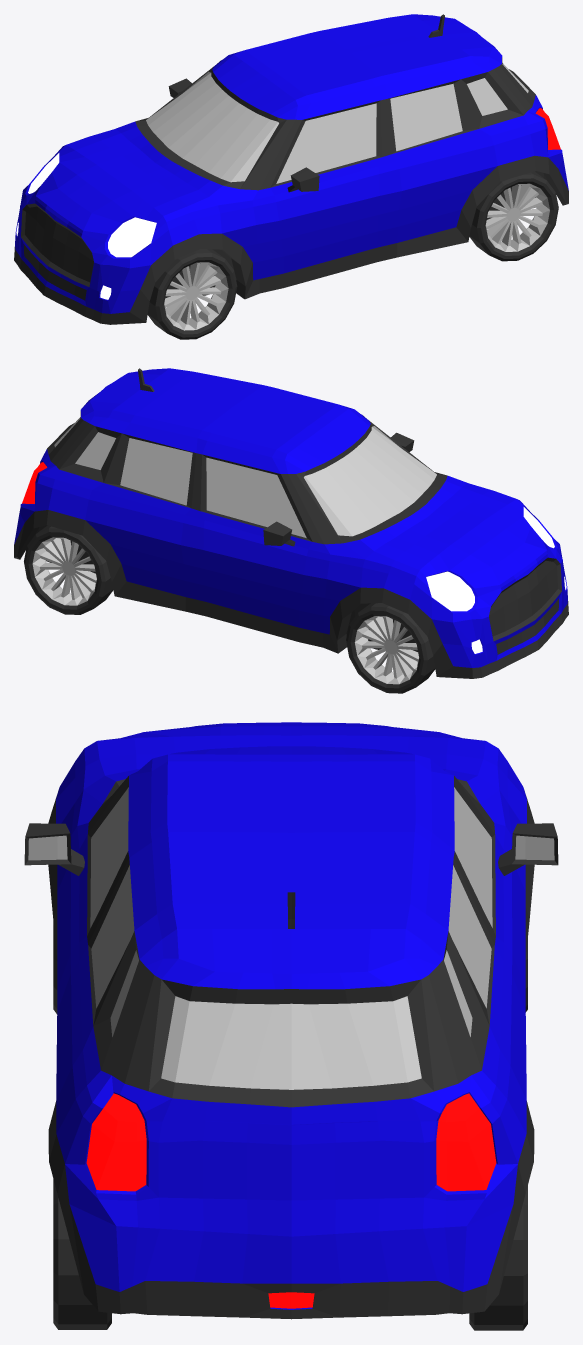
Rendered from mini_cooper.glb.
3 views of the same model, one above another, from view 1: azimuth 30°, elevation 25°; view 2: azimuth 150°, elevation 25°; view 3: azimuth 270°, elevation 25° (orthographic). The views are drawn at different scales.
Visible parts, largest first — view 1: Car, Wheel, Wheel.003; view 2: Car, Wheel.001, Wheel.002; view 3: Car, Wheel.003, Wheel.002.
Part boxes in pixels (<box>): Car: <box>14,14,568,324</box>; Wheel: <box>147,249,237,339</box>; Wheel.003: <box>469,171,558,261</box>; Car: <box>14,368,568,678</box>; Wheel.001: <box>346,603,435,693</box>; Wheel.002: <box>24,525,113,614</box>; Car: <box>24,722,558,1319</box>; Wheel.003: <box>53,1179,111,1329</box>; Wheel.002: <box>469,1185,527,1330</box>.
Bounding box in the file's own units: 3.91 × 1.59 × 1.86.
